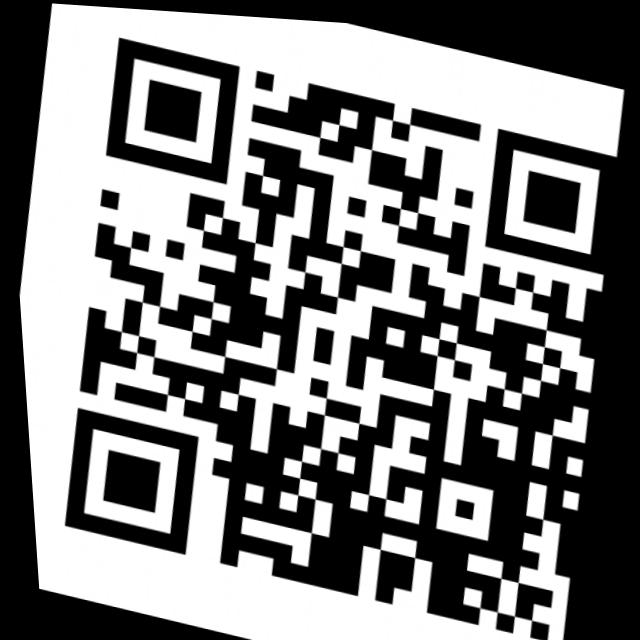QR_CODE: (10, 7, 640, 640)
